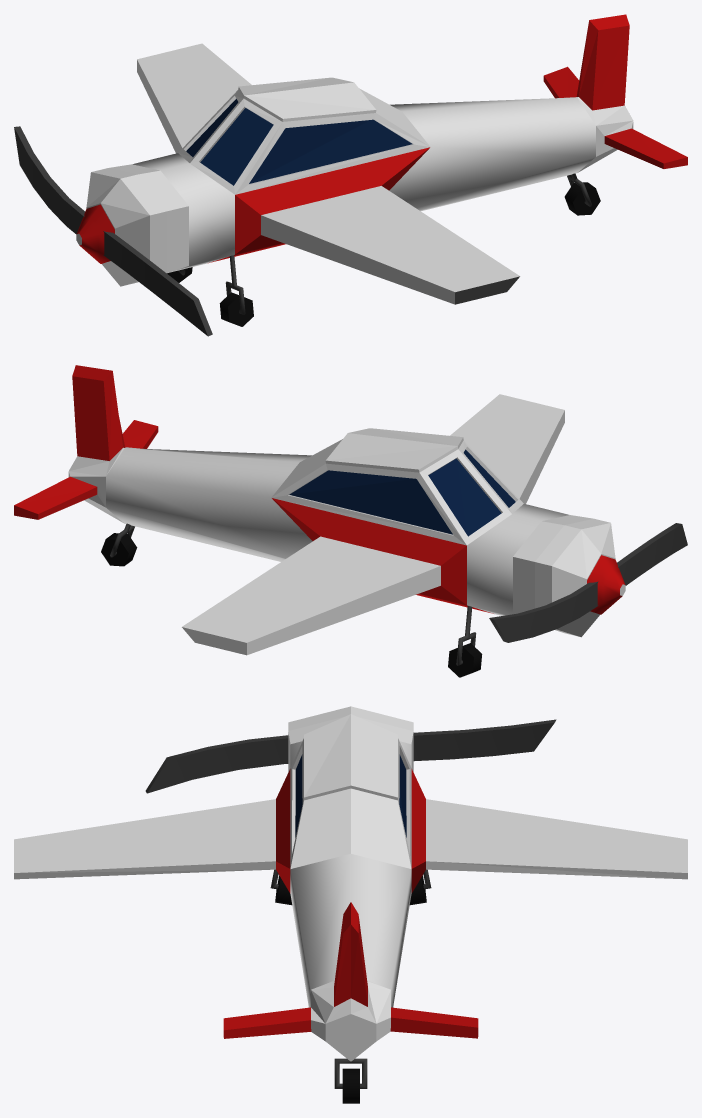
3 renders of one model, top to bottom at view 1: azimuth 30°, elevation 25°; view 2: azimuth 150°, elevation 25°; view 3: azimuth 270°, elevation 25°, orthographic. The views are drawn at different scales.
Visible parts, largest first — view 1: Plane, Line002, Line001, Cone001, Cylinder004, Cylinder003; view 2: Plane, Line001, Line002, Cone001, Cylinder004, Cylinder002; view 3: Plane, Line002, Line001, Cylinder004.
Boxes of the visible parts, x1,y1,x2,y2 form: Plane: [86, 14, 687, 304]; Line002: [103, 231, 212, 336]; Line001: [14, 126, 85, 234]; Cone001: [76, 204, 114, 263]; Cylinder004: [564, 182, 600, 215]; Cylinder003: [219, 292, 253, 326]; Plane: [14, 365, 615, 655]; Line001: [489, 581, 598, 642]; Line002: [617, 523, 687, 585]; Cone001: [587, 555, 625, 614]; Cylinder004: [101, 533, 137, 566]; Cylinder002: [448, 643, 482, 677]; Plane: [14, 706, 687, 1061]; Line002: [145, 735, 288, 793]; Line001: [413, 719, 556, 761]; Cylinder004: [342, 1068, 359, 1103].
Bounding box in the file's own units: 192 × 66.97 × 193.
